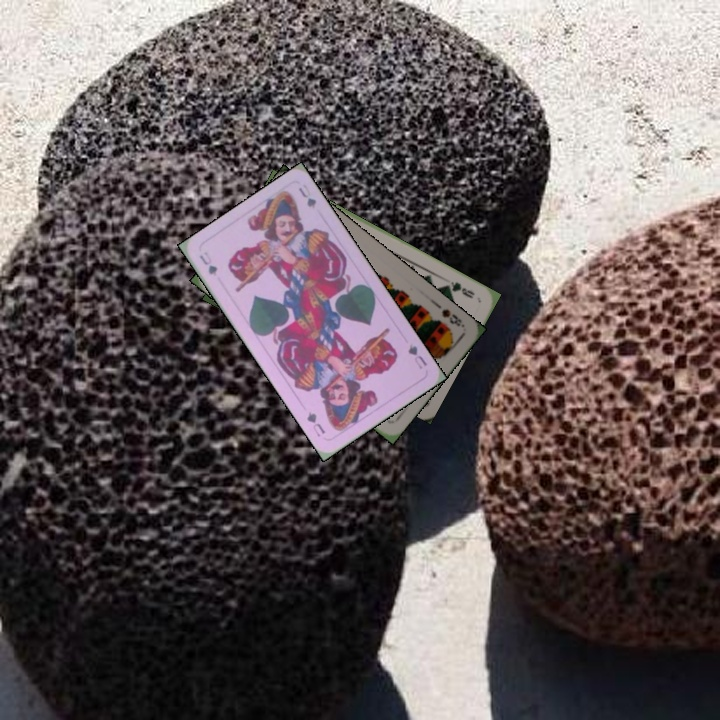G9: (441, 278, 478, 301)
GU: (404, 340, 430, 372), (195, 247, 220, 278)
S8: (437, 305, 467, 330)
